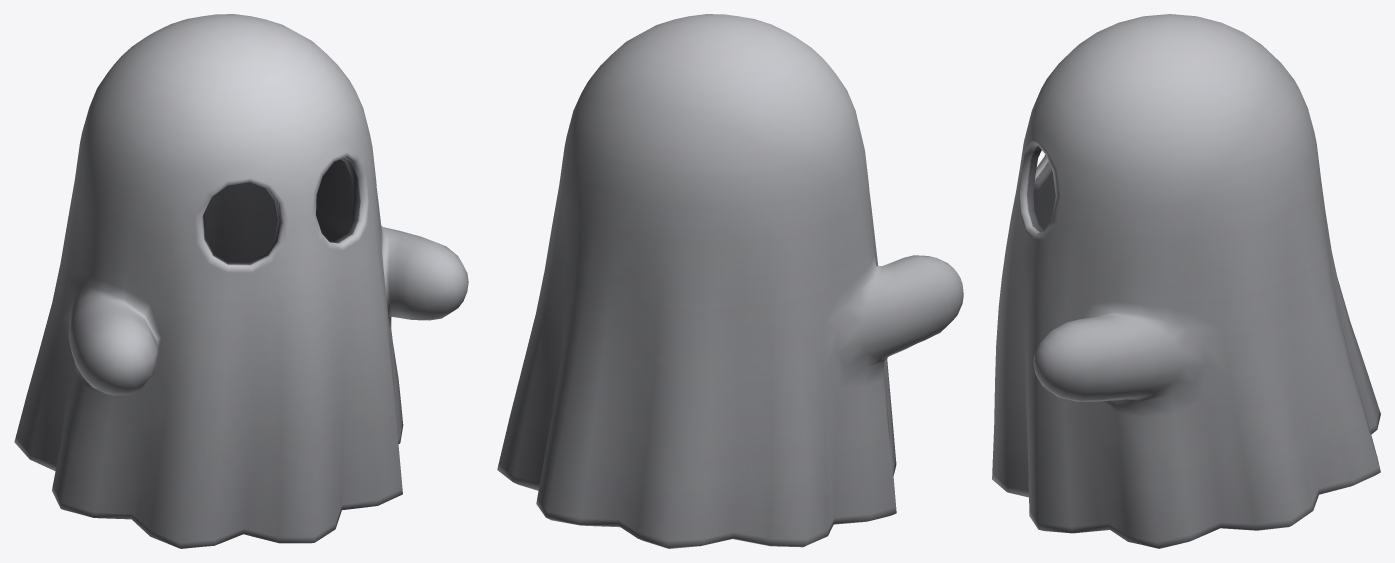
The model's file is Ghost.FBX.
The picture shows the model from 3 angles, left to right: view 1: azimuth 30°, elevation 25°; view 2: azimuth 150°, elevation 25°; view 3: azimuth 270°, elevation 25°; orthographic projection. The views are drawn at different scales.
Parts seen in each view (by area): view 1: Ghost; view 2: Ghost; view 3: Ghost.
Boxes of the visible parts, x1,y1,x2,y2 form: Ghost: (14, 14, 468, 548); Ghost: (497, 14, 963, 548); Ghost: (992, 14, 1380, 548).
Bounding box in the file's own units: 96.32 × 110 × 85.63.
1 material, 1 textured.
